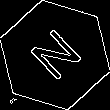N_SE: (23, 23, 87, 87)
